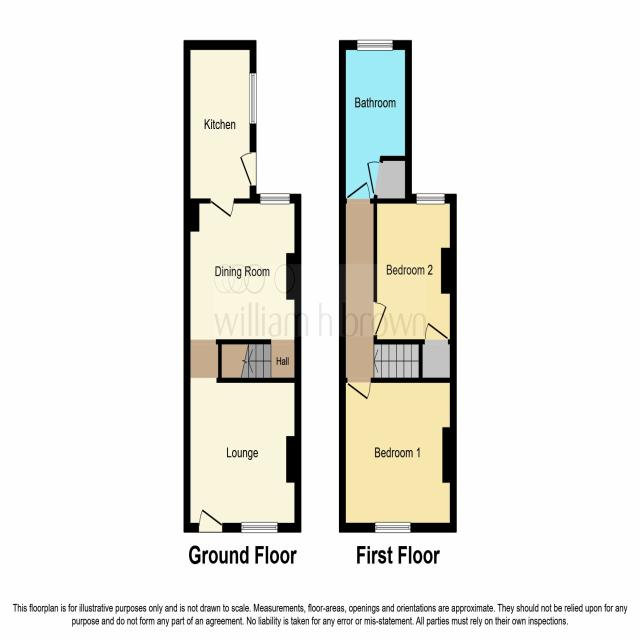DOOR: (423, 320, 449, 346), (366, 160, 384, 197), (239, 151, 257, 187), (198, 508, 223, 533), (346, 377, 371, 401), (346, 180, 371, 204), (373, 300, 387, 337), (210, 198, 235, 218)
ROOM: (183, 193, 302, 533), (339, 377, 457, 533), (183, 40, 257, 219), (373, 193, 457, 345)
WINDOW: (241, 521, 278, 533), (356, 39, 393, 51), (375, 521, 411, 533), (249, 72, 257, 124), (260, 193, 290, 205), (416, 193, 445, 205)
